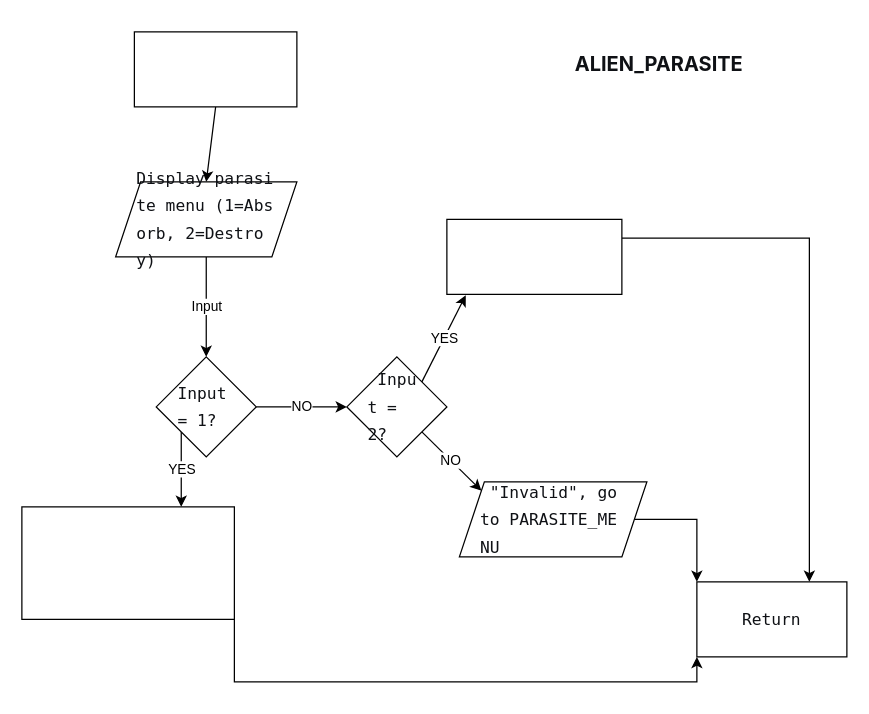
The diagram is 869 pixels wide and 714 high, and some of its shapes have lost their labels. Each missing label, with the centre of its shape:
Energy += 40 if >100 then=100 ParasiteFlag=1 print absorb msg: the point at 127,562
Gold +=10 print destroy msg: the point at 534,256
PARASITE_MENU: the point at 215,69
